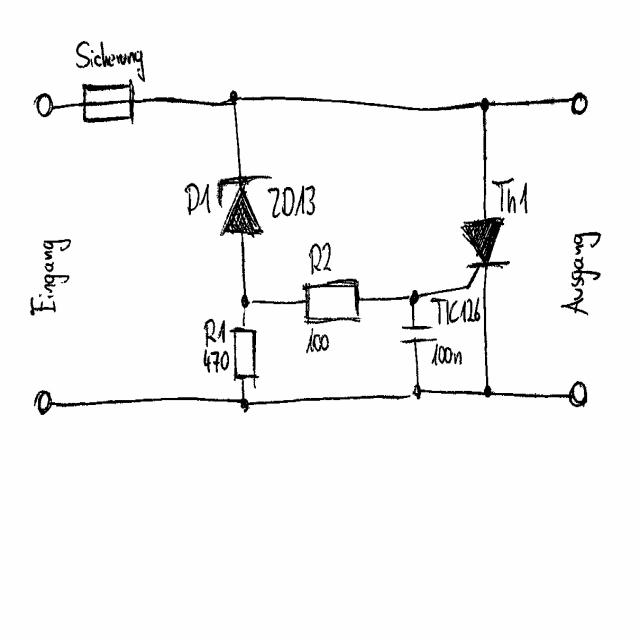capacitor: (399, 322, 440, 346)
diode: (215, 173, 273, 241)
junction: (406, 289, 421, 309), (240, 294, 254, 315), (409, 382, 423, 401), (227, 89, 241, 107), (239, 396, 251, 413), (478, 97, 490, 114), (483, 384, 496, 399)
resistor: (298, 277, 363, 326), (228, 323, 260, 390)
terminal: (33, 91, 56, 119), (33, 388, 56, 416), (567, 380, 588, 409), (569, 90, 589, 116)
text: (559, 229, 603, 318), (29, 236, 72, 319), (73, 38, 148, 85), (267, 183, 317, 220), (428, 295, 482, 327), (490, 176, 529, 215), (183, 180, 214, 217), (307, 239, 333, 277), (429, 342, 463, 368), (202, 348, 231, 375), (203, 318, 228, 348), (305, 326, 330, 356)
thyristor: (460, 215, 511, 291)
